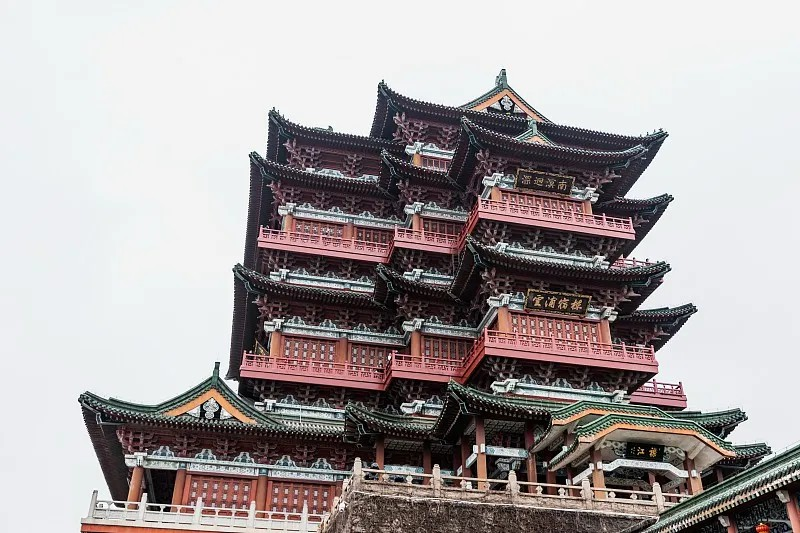Teng: (77, 67, 771, 495)
